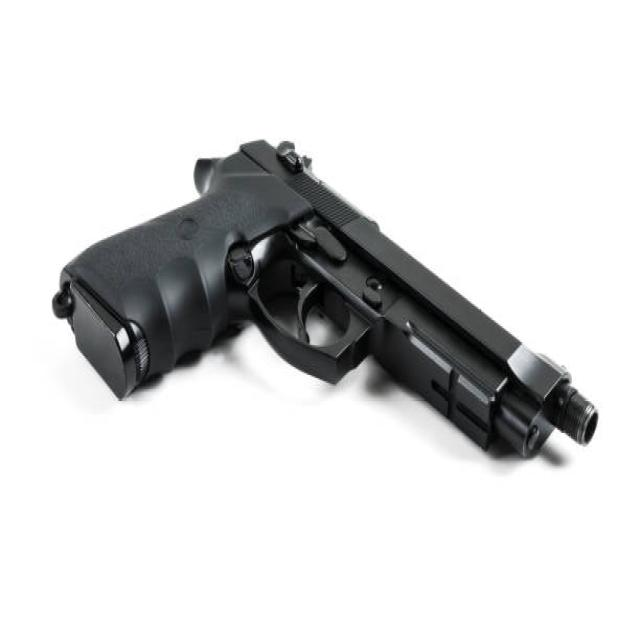pistol: (48, 130, 599, 475)
